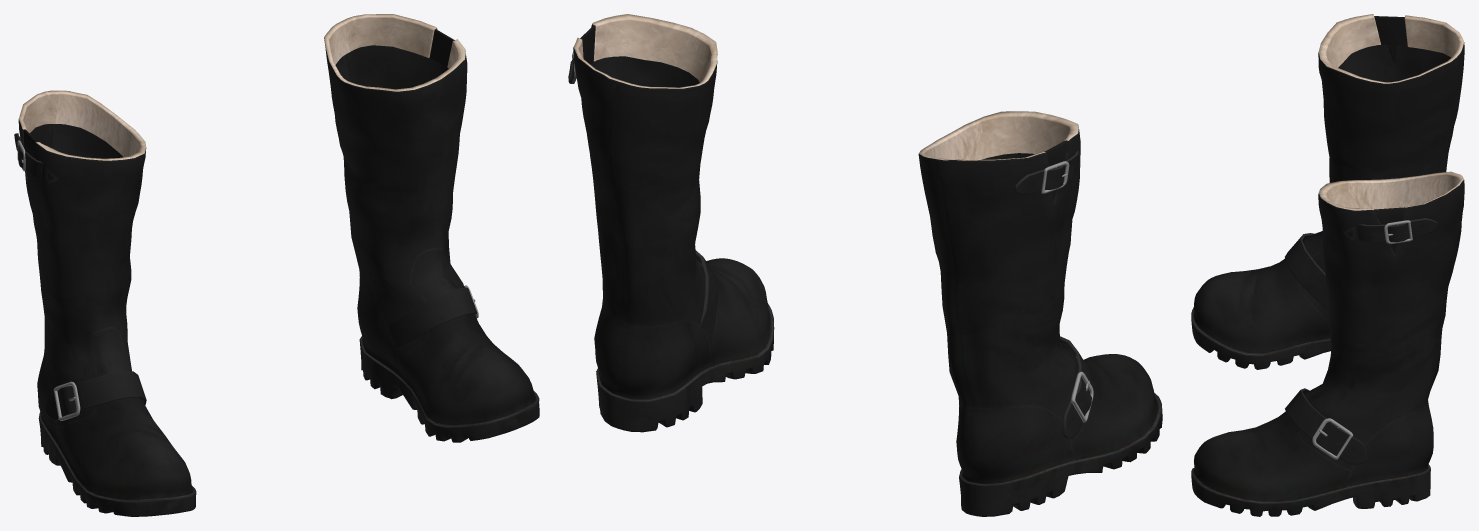
The model's file is mindfront-shoes-biker-boots-male.glb.
The picture shows the model from 3 angles, left to right: view 1: azimuth 30°, elevation 25°; view 2: azimuth 150°, elevation 25°; view 3: azimuth 270°, elevation 25°; orthographic projection. The views are drawn at different scales.
Visible parts, largest first — view 1: Human.mindfront_shoes_biker_boots_male; view 2: Human.mindfront_shoes_biker_boots_male; view 3: Human.mindfront_shoes_biker_boots_male.
Boxes of the visible parts, x1,y1,x2,y2 form: Human.mindfront_shoes_biker_boots_male: (14,14,539,516); Human.mindfront_shoes_biker_boots_male: (568,14,1162,516); Human.mindfront_shoes_biker_boots_male: (1191,14,1464,516).
Size of the model in its own units: 0.4541 by 0.331 by 0.2581.
1 material, 1 textured.
